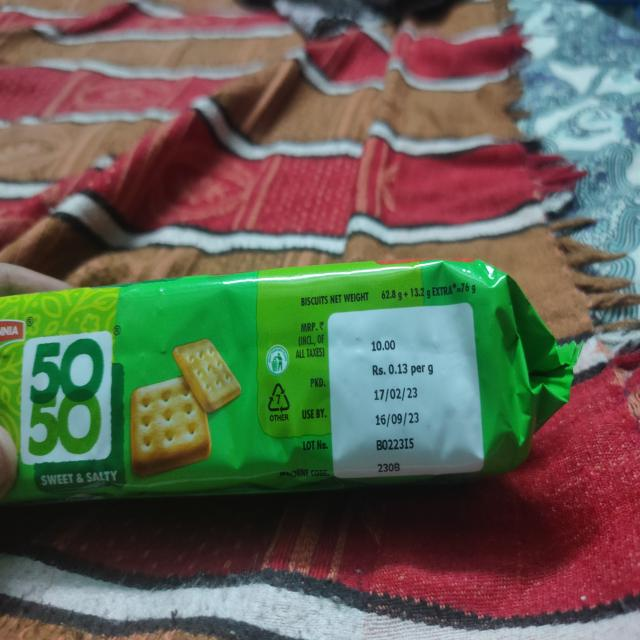50 50 biscuit: (1, 258, 578, 508)
